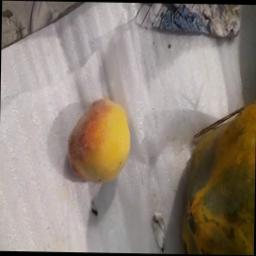Peach Unripe: (62, 88, 140, 190)
